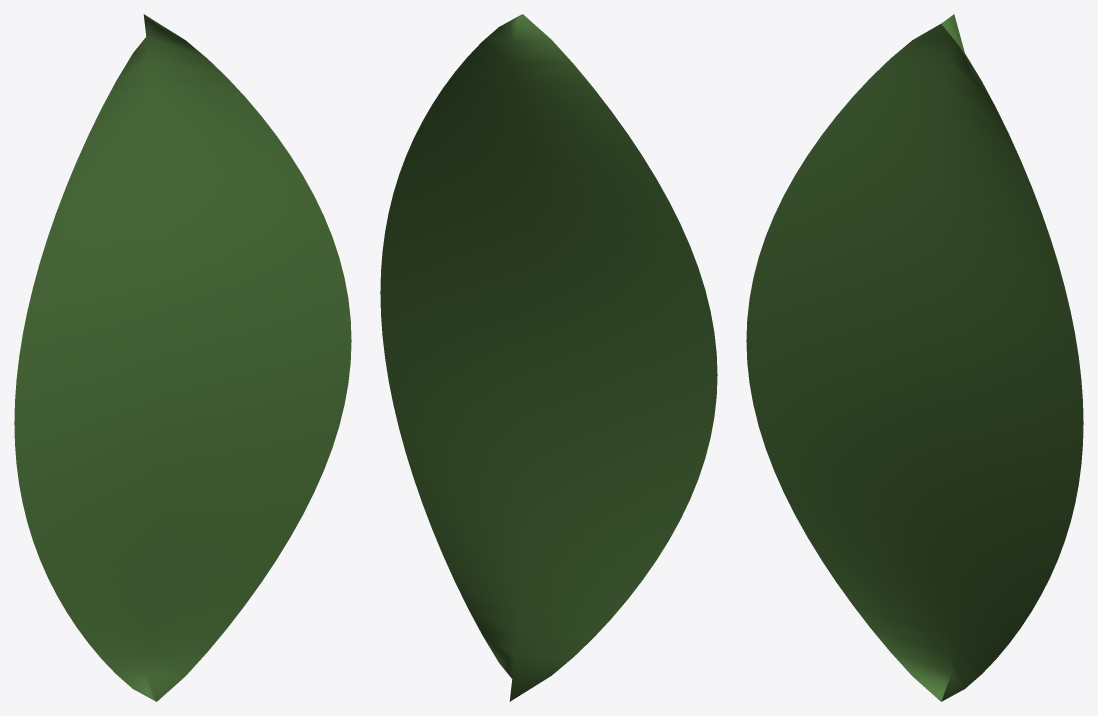
File: leaf-oval.glb
The picture shows the model from 3 angles, left to right: view 1: azimuth 30°, elevation 25°; view 2: azimuth 150°, elevation 25°; view 3: azimuth 330°, elevation 25°; orthographic projection.
Visible parts, largest first — view 1: tint-surface; view 2: tint-surface; view 3: tint-surface.
Boxes of the visible parts, x1,y1,x2,y2 form: tint-surface: (14, 14, 351, 701); tint-surface: (380, 14, 717, 701); tint-surface: (746, 14, 1083, 701).
Bounding box in the file's own units: 0.52 × 1 × 0.105.
